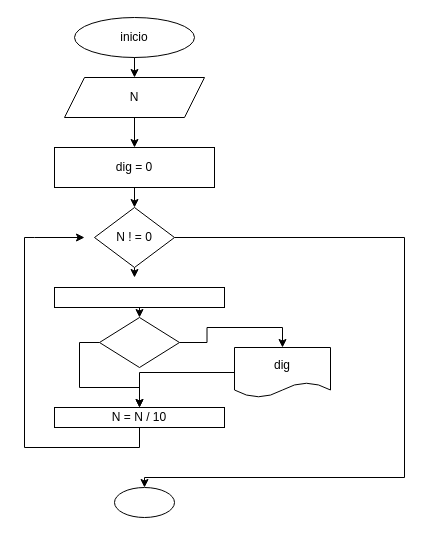
This 430x535 diagram has some shape labels left out. Each missing label, with the box of its shape:
dig = N % 10: (54, 286, 224, 308)
dig == 3: (98, 316, 180, 368)
fin: (114, 486, 174, 518)
